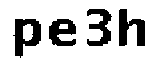3: (85, 6, 112, 50)
e: (48, 17, 77, 50)
h: (116, 5, 151, 50)
p: (10, 14, 42, 60)
